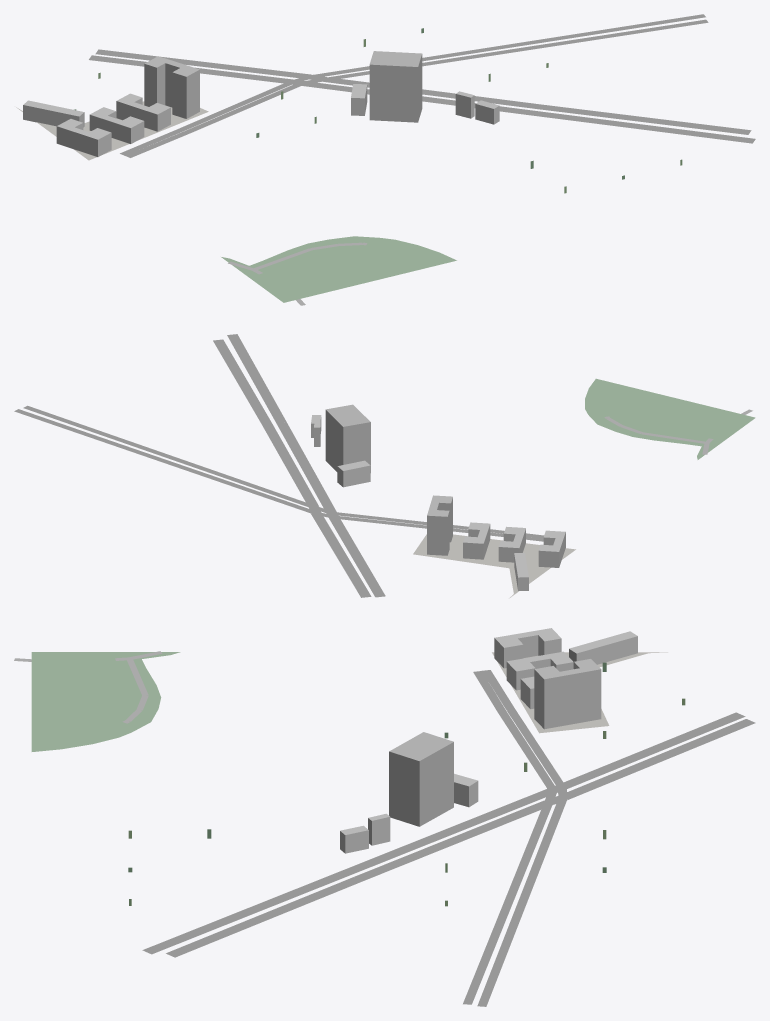
3 views of the same model, one above another, from view 1: azimuth 30°, elevation 25°; view 2: azimuth 150°, elevation 25°; view 3: azimuth 270°, elevation 25° (orthographic). The views are drawn at different scales.
Bounding box in the file's own units: 641 × 56.32 × 563.
